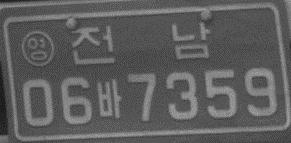0: (21, 77, 55, 127)
3: (165, 70, 199, 121)
5: (204, 69, 237, 118)
6: (60, 75, 92, 125)
7: (126, 72, 157, 122)
9: (244, 67, 278, 117)
바: (96, 78, 122, 119)
영: (20, 29, 56, 68)
전남_D: (69, 22, 210, 65)
